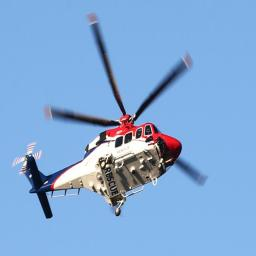helicopter: (10, 15, 213, 221)
